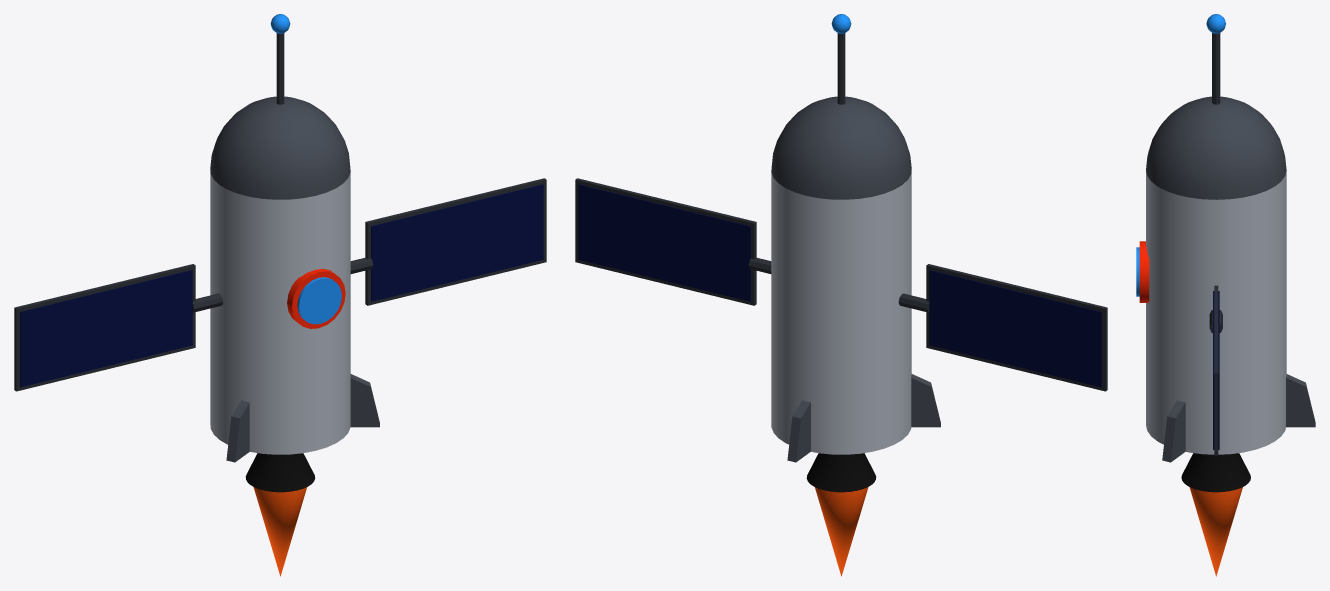
File: Rocket_12_SolarSat.obj
The picture shows the model from 3 angles, left to right: view 1: azimuth 30°, elevation 25°; view 2: azimuth 150°, elevation 25°; view 3: azimuth 270°, elevation 25°; orthographic projection.
Visible parts, largest first — view 1: R12_Body, R12_Panel_2, R12_Panel_1, R12_Nose, R12_PanelFrame_2, R12_PanelFrame_1, R12_Flame_1, R12_Nozzle_1, R12_Window_1, R12_Fin_3, R12_WindowFrame_1, R12_Fin_2; view 2: R12_Body, R12_Panel_2, R12_Panel_1, R12_Nose, R12_PanelFrame_2, R12_PanelFrame_1, R12_Flame_1, R12_Nozzle_1, R12_Fin_2, R12_Fin_1; view 3: R12_Body, R12_Nose, R12_Flame_1, R12_Nozzle_1, R12_Fin_1, R12_Fin_3, R12_PanelFrame_1, R12_Antenna, R12_Panel_1, R12_WindowFrame_1, R12_AntennaTip.
Part boxes in pixels (x1,y1,x2,y2): R12_Body: (210,171,350,454); R12_Panel_2: (20,270,192,387); R12_Panel_1: (371,184,543,301); R12_Nose: (210,96,350,199); R12_PanelFrame_2: (14,264,195,391); R12_PanelFrame_1: (365,178,546,305); R12_Flame_1: (253,487,306,576); R12_Nozzle_1: (245,453,315,492); R12_Window_1: (297,277,341,324); R12_Fin_3: (350,374,379,427); R12_WindowFrame_1: (287,268,345,328); R12_Fin_2: (226,400,249,462); R12_Body: (771,171,911,454); R12_Panel_2: (929,270,1101,387); R12_Panel_1: (578,184,750,301); R12_Nose: (771,96,911,199); R12_PanelFrame_2: (926,264,1107,391); R12_PanelFrame_1: (575,178,756,305); R12_Flame_1: (815,487,868,576); R12_Nozzle_1: (806,453,876,492); R12_Fin_2: (911,374,940,427); R12_Fin_1: (787,400,810,462); R12_Body: (1146,171,1286,454); R12_Nose: (1146,96,1286,199); R12_Flame_1: (1189,487,1242,576); R12_Nozzle_1: (1181,453,1250,492); R12_Fin_1: (1286,374,1315,427); R12_Fin_3: (1162,400,1185,462); R12_PanelFrame_1: (1214,285,1218,455); R12_Antenna: (1212,33,1220,104); R12_Panel_1: (1213,291,1219,449); R12_WindowFrame_1: (1139,241,1149,302); R12_AntennaTip: (1206,14,1225,33).
Bounding box in the file's own units: 7.4 × 7.5 × 2.17.
